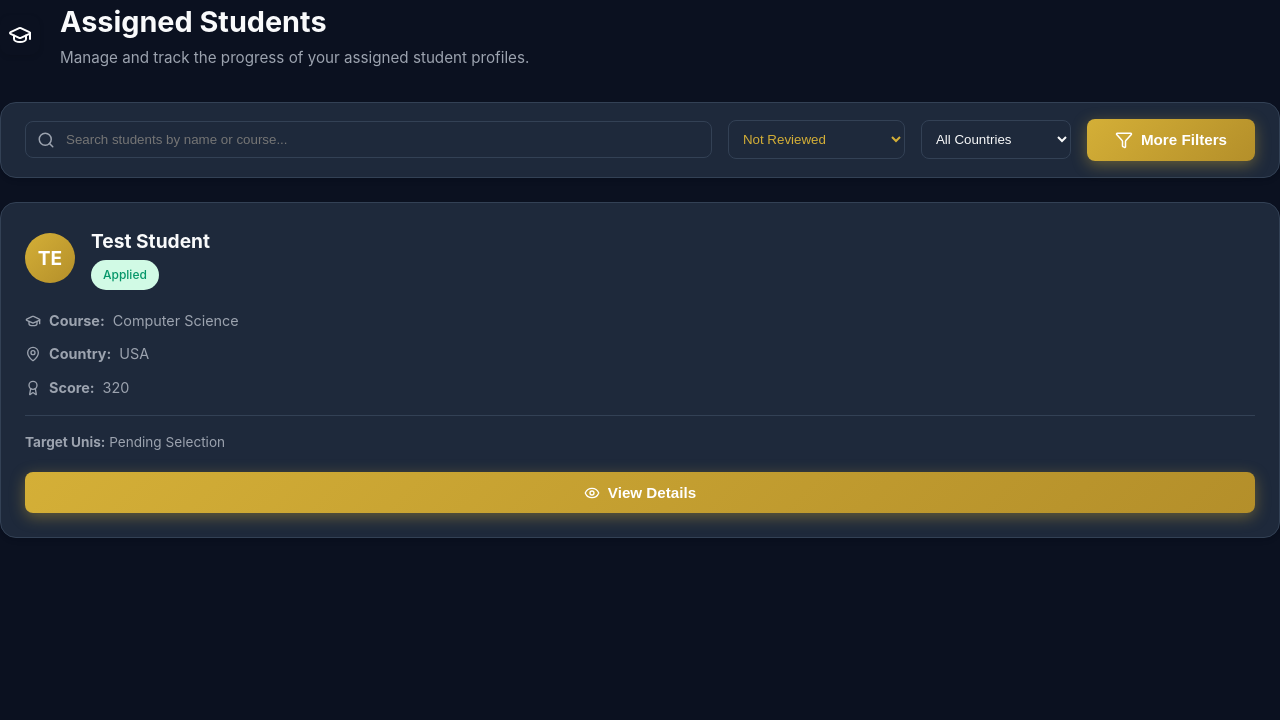
Test: AssignedStudents Component › renders students and opens modal on View Details
This screenshot has width=1280, height=720.
expect the heading "Test Student" is shown: met, box x1=91 y1=227 x2=210 y2=256
Click the button "View Details".
click(640, 492)  # box x1=25 y1=472 x2=1255 y2=513
(page scrolled)
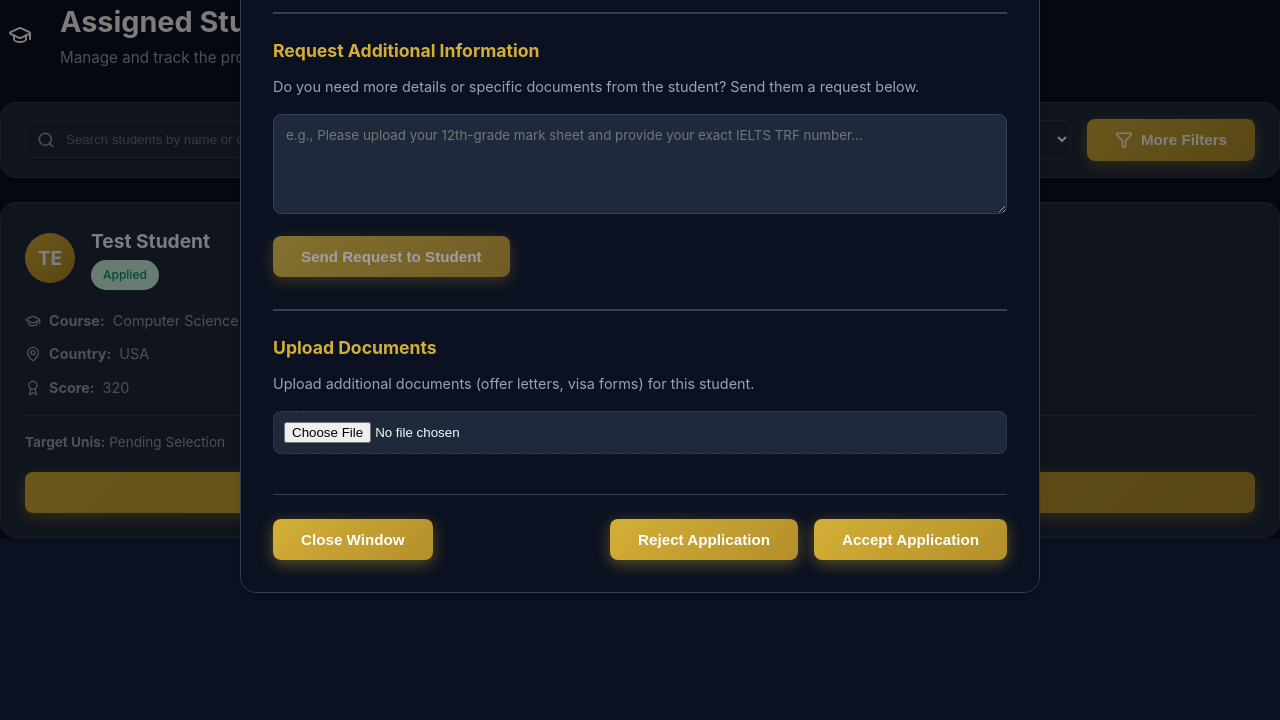
expect the button "Accept Application" is shown: met, box x1=814 y1=519 x2=1007 y2=560
